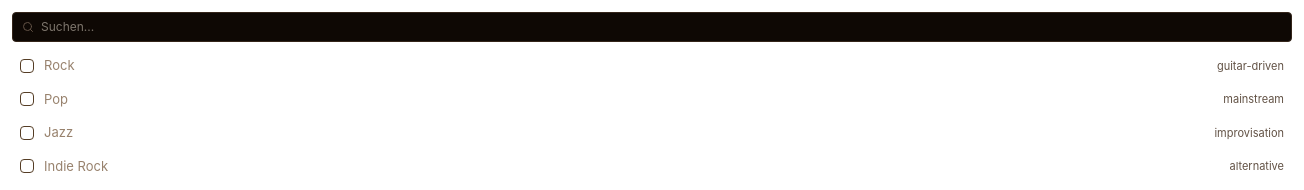
CheckList — Suche › filtert auf label
The width and height of the screenshot is (1304, 190).
Type "rock" into the field with placeholder "Suchen..." at (652, 27), box top-left (12, 12), bottom-right (1292, 42)
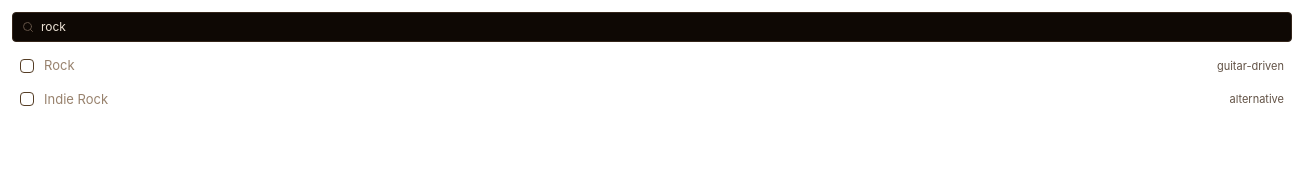
expect the text "Rock" is shown: met, box top-left (44, 57), bottom-right (74, 73)
expect the button "Pop" is gone: met
expect the button "Jazz" is gone: met
